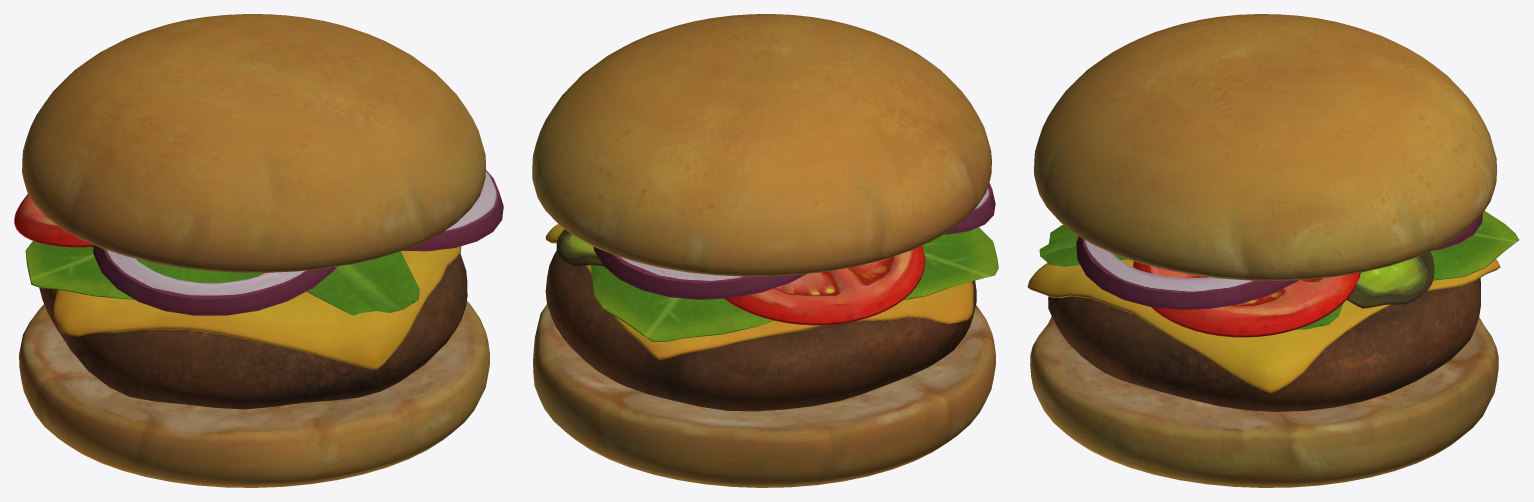
The model's file is hamburguesa-explosiva.glb.
3 renders of one model, left to right at view 1: azimuth 30°, elevation 25°; view 2: azimuth 150°, elevation 25°; view 3: azimuth 270°, elevation 25°, orthographic.
Parts seen in each view (by area): view 1: pan_tapa, pan_base, carne_1, queso_1, cebolla_1, lechuga_1, tomate_1; view 2: pan_tapa, pan_base, carne_1, lechuga_1, tomate_1, cebolla_1, queso_1, pepinillo_1; view 3: pan_tapa, pan_base, carne_1, queso_1, tomate_1, cebolla_1, lechuga_1, pepinillo_1.
Part boxes in pixels (<box>): pan_tapa: <box>22,14,485,272</box>; pan_base: <box>19,301,489,487</box>; carne_1: <box>39,253,467,409</box>; queso_1: <box>53,246,461,369</box>; cebolla_1: <box>93,170,503,315</box>; lechuga_1: <box>25,241,419,315</box>; tomate_1: <box>14,194,93,247</box>; pan_tapa: <box>532,14,991,276</box>; pan_base: <box>533,304,995,487</box>; carne_1: <box>545,251,976,411</box>; lechuga_1: <box>590,227,998,341</box>; tomate_1: <box>724,246,925,325</box>; cebolla_1: <box>593,183,995,299</box>; queso_1: <box>545,224,973,359</box>; pepinillo_1: <box>556,229,603,266</box>; pan_tapa: <box>1034,14,1496,280</box>; pan_base: <box>1030,316,1498,487</box>; carne_1: <box>1048,278,1480,411</box>; queso_1: <box>1027,259,1500,393</box>; tomate_1: <box>1133,261,1360,337</box>; cebolla_1: <box>1076,214,1482,309</box>; lechuga_1: <box>1039,211,1519,329</box>; pepinillo_1: <box>1346,252,1434,308</box>.
Size of the model in its own units: 0.185 by 0.14 by 0.1785.
1 material, 1 textured.
